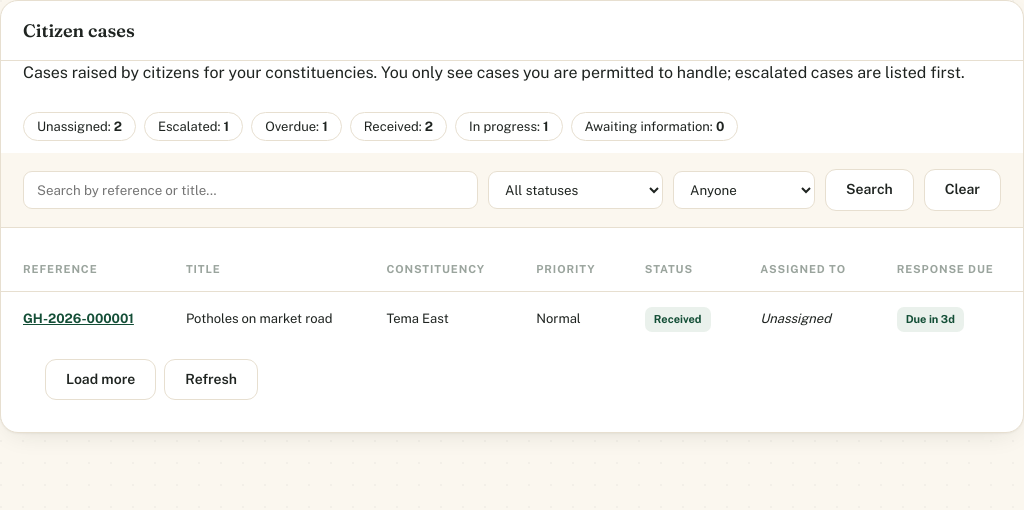
it: Case queue › pages through results with the server cursor
Click the button "Load more": {"x": 101, "y": 380} [45, 359, 156, 400]
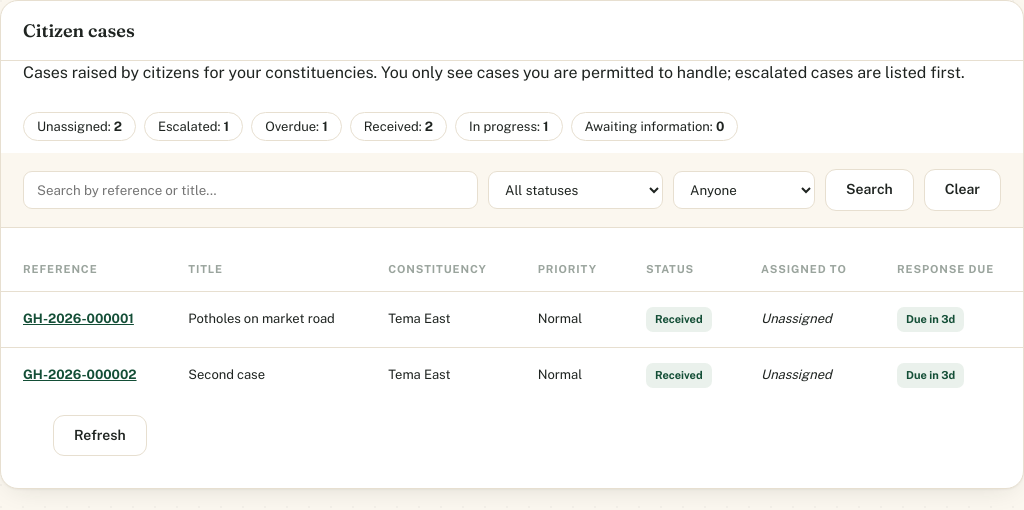
expect the text "Potholes on market road" is shown: met, box [166, 292, 366, 347]
expect the text "Second case" is shown: met, box [166, 347, 366, 403]
expect the button "Load more" is gone: met
